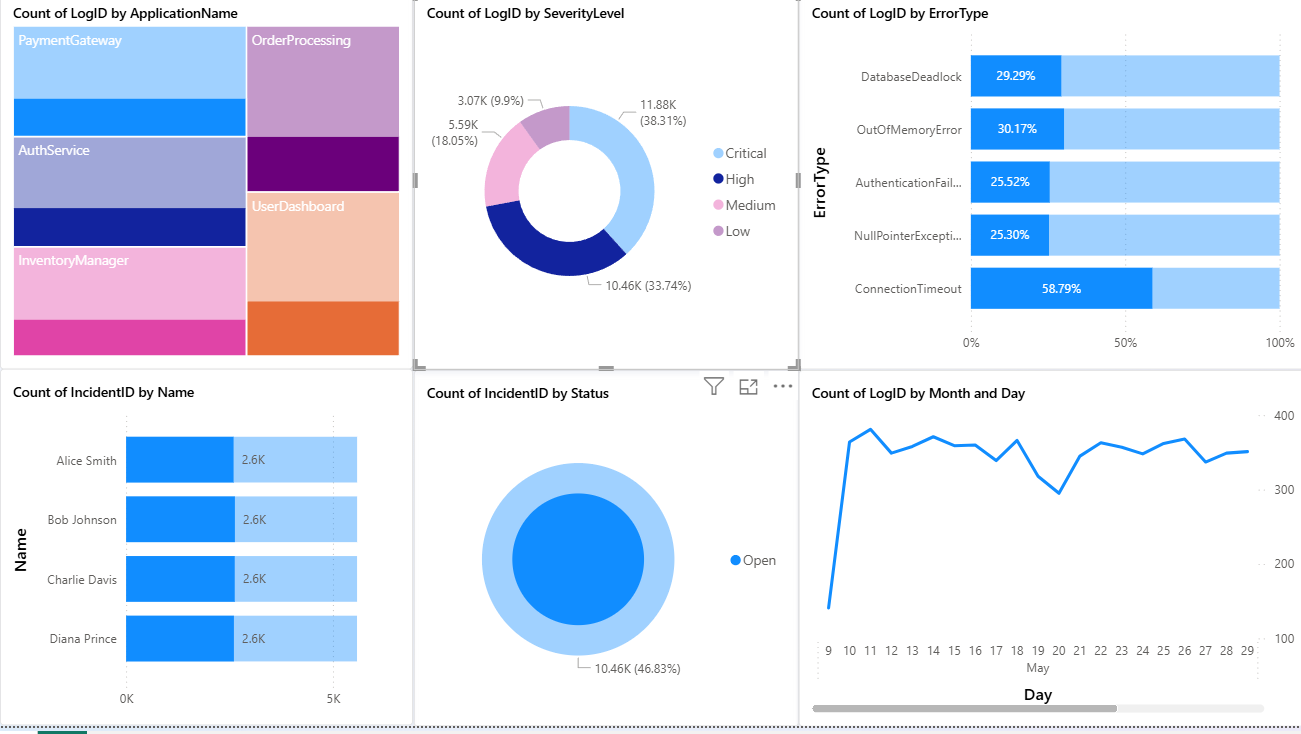

The page's visual inventory and layout, read from the dashboard file:
{"tool":"powerbi","page":{"name":"Page 1","canvas":[1280,720],"ordinal":0},"visuals":[{"type":"donutChart","fields":{"Category":["app_monitoring_db logs.SeverityLevel"],"Y":["CountNonNull(app_monitoring_db logs.LogID)"]},"box":[404.3,0,377.1,371.4],"z":0},{"type":"pieChart","fields":{"Category":["app_monitoring_db incidents.Status"],"Y":["CountNonNull(app_monitoring_db incidents.IncidentID)"]},"box":[404.3,371.4,377.1,348.6],"z":1000},{"type":"hundredPercentStackedBarChart","fields":{"Category":["app_monitoring_db logs.ErrorType"],"Y":["CountNonNull(app_monitoring_db logs.LogID)"]},"box":[781.4,0,498.6,371.4],"z":2000},{"type":"lineChart","fields":{"Category":["app_monitoring_db logs.Timestamp.Variation.Date Hierarchy.Month","app_monitoring_db logs.Timestamp.Variation.Date Hierarchy.Day"],"Y2":["CountNonNull(app_monitoring_db logs.LogID)"]},"box":[781.4,371.4,498.6,348.6],"z":3000},{"type":"treemap","fields":{"Group":["app_monitoring_db logs.ApplicationName"],"Values":["CountNonNull(app_monitoring_db logs.LogID)"]},"box":[0,0,404.3,371.4],"z":3001},{"type":"clusteredBarChart","fields":{"Category":["app_monitoring_db engineers.Name"],"Y":["CountNonNull(app_monitoring_db incidents.IncidentID)"]},"box":[0,371,404,349],"z":3002}]}

Visuals, with their boxes in screenshot pixels (x1, y1, x2, y2), scaled from the page's 1280x720 canvas onto the 1301x734 screenshot:
donutChart - app_monitoring_db logs.SeverityLevel x CountNonNull(app_monitoring_db logs.LogID): x1=411 y1=0 x2=794 y2=379
pieChart - app_monitoring_db incidents.Status x CountNonNull(app_monitoring_db incidents.IncidentID): x1=411 y1=379 x2=794 y2=733
hundredPercentStackedBarChart - app_monitoring_db logs.ErrorType x CountNonNull(app_monitoring_db logs.LogID): x1=794 y1=0 x2=1300 y2=379
lineChart - app_monitoring_db logs.Timestamp.Variation.Date Hierarchy.Month x app_monitoring_db logs.Timestamp.Variation.Date Hierarchy.Day: x1=794 y1=379 x2=1300 y2=733
treemap - app_monitoring_db logs.ApplicationName x CountNonNull(app_monitoring_db logs.LogID): x1=0 y1=0 x2=411 y2=379
clusteredBarChart - app_monitoring_db engineers.Name x CountNonNull(app_monitoring_db incidents.IncidentID): x1=0 y1=378 x2=411 y2=733
